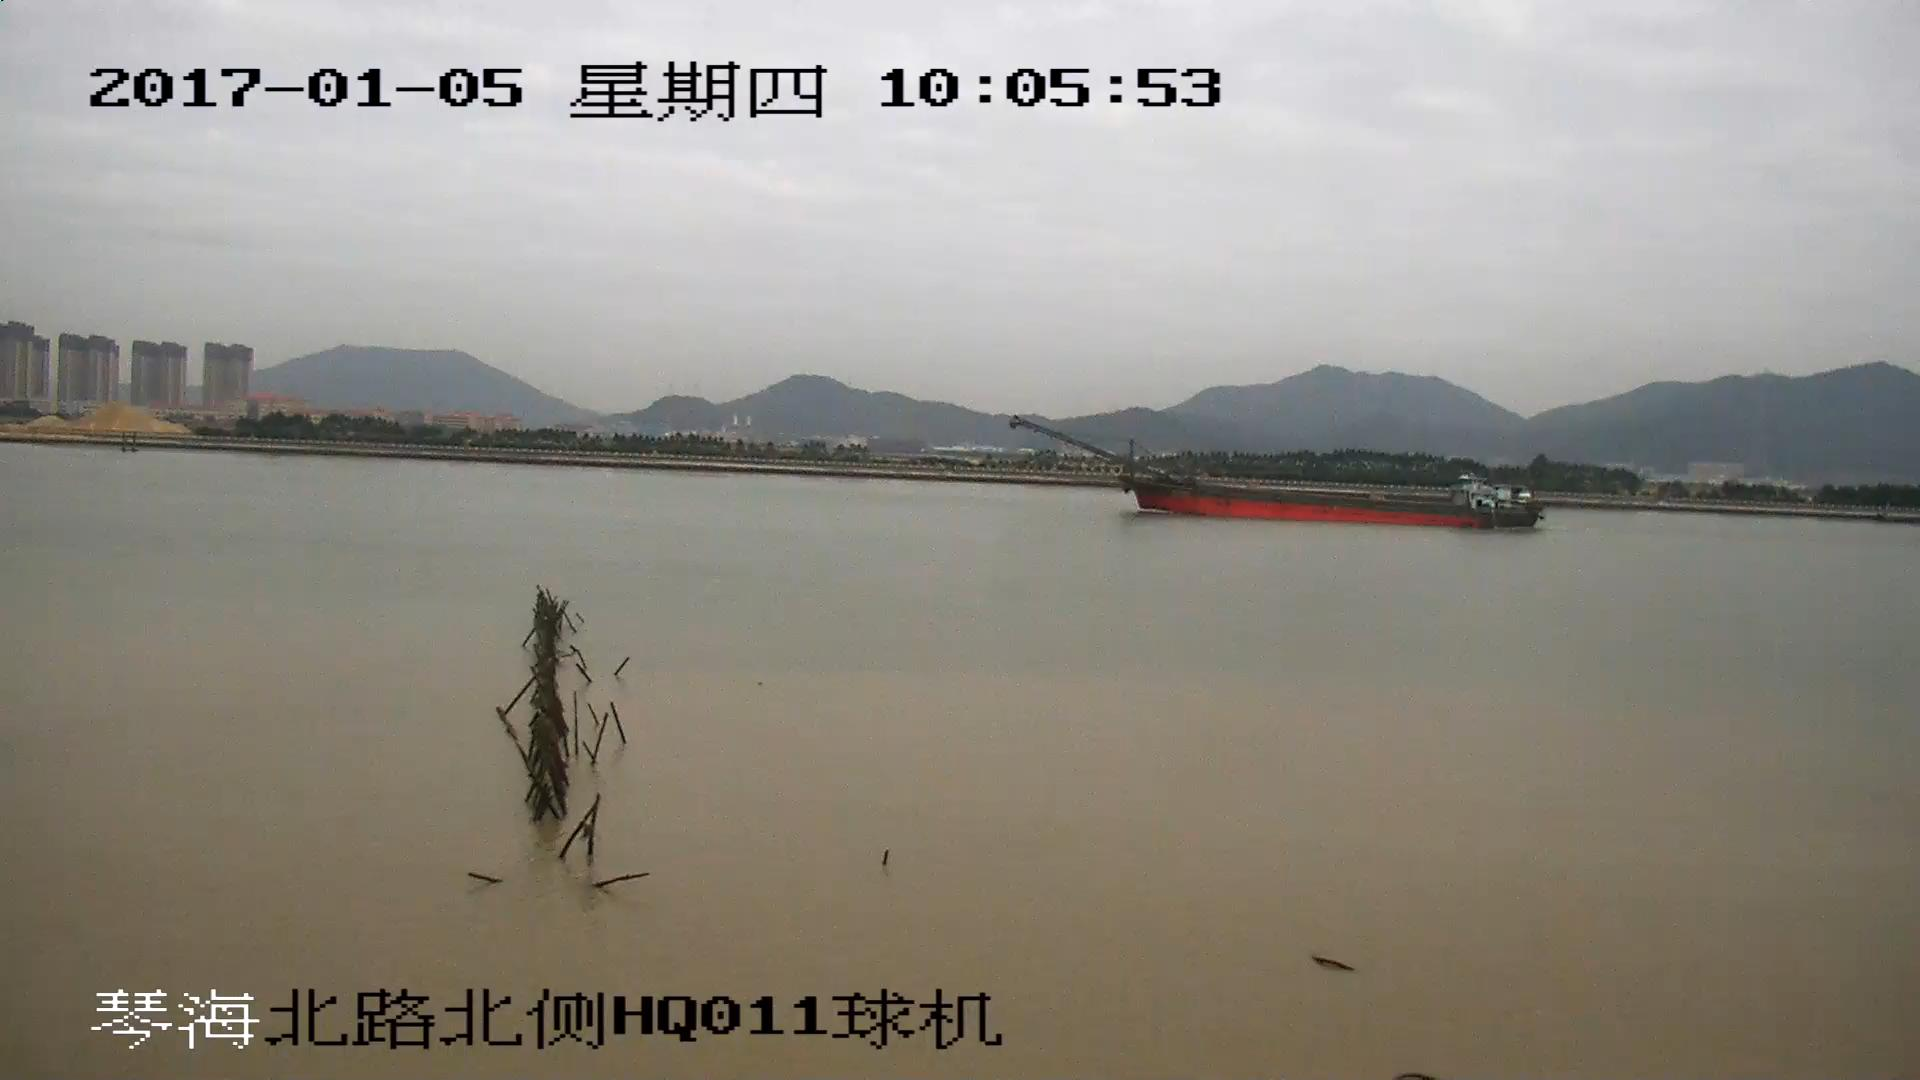bulk cargo carrier: (1013, 417, 1544, 530)
